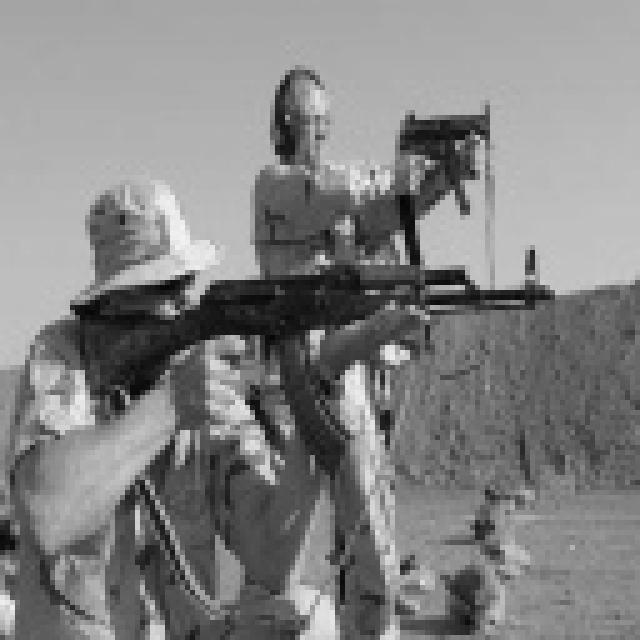Rifle: (82, 237, 580, 469), (392, 102, 514, 231)
